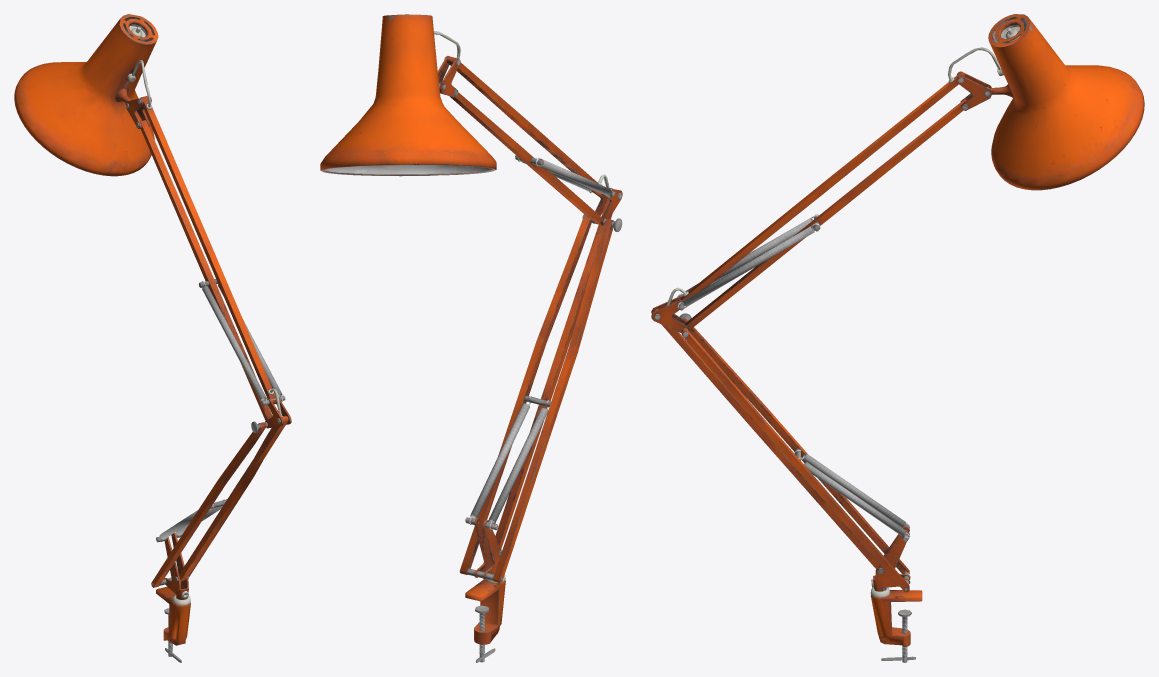
File: desk_lamp_arm_01.c66b8e95.glb
3 views of the same model, side by side, from view 1: azimuth 30°, elevation 25°; view 2: azimuth 150°, elevation 25°; view 3: azimuth 270°, elevation 25° (orthographic). The views are drawn at different scales.
Parts seen in each view (by area): view 1: desk_lamp_arm_01; view 2: desk_lamp_arm_01; view 3: desk_lamp_arm_01.
Part boxes in pixels (<box>): desk_lamp_arm_01: <box>14,14,291,662</box>; desk_lamp_arm_01: <box>320,14,622,662</box>; desk_lamp_arm_01: <box>651,14,1144,662</box>.
Size of the model in its own units: 0.226 by 1 by 0.6877.
2 materials, 2 textured.
